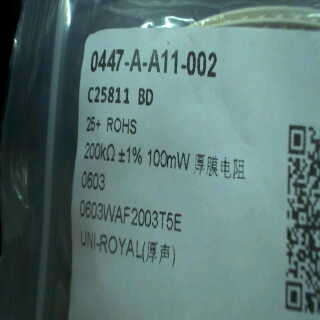200kR: (81, 141, 116, 165)
